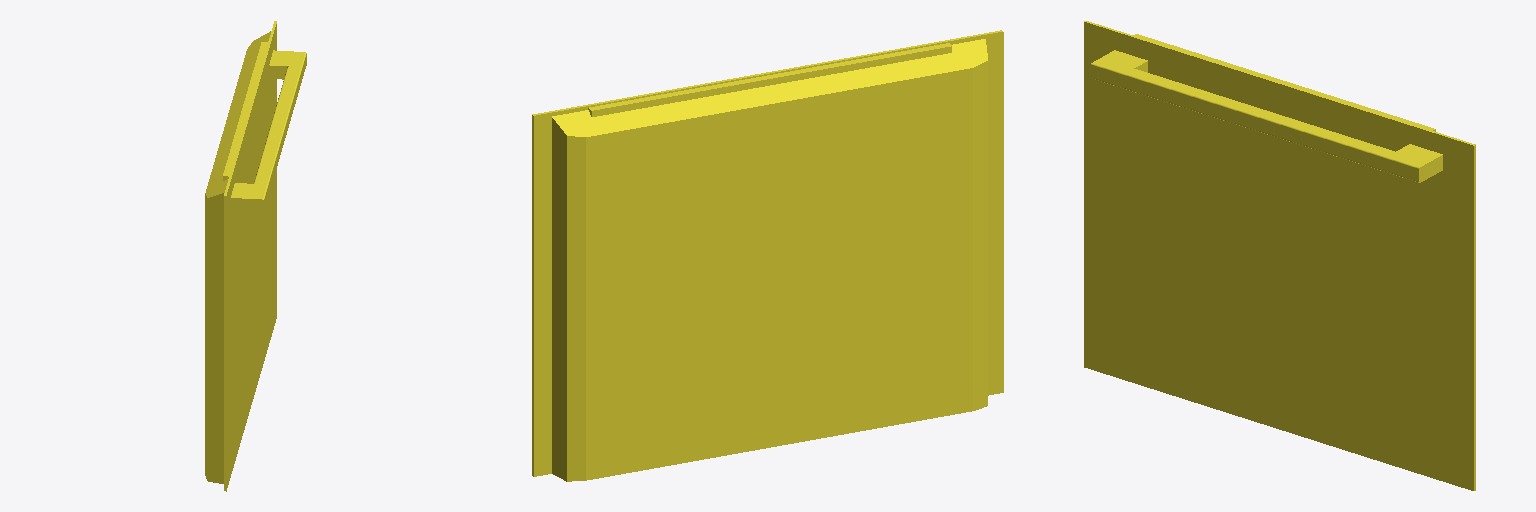
The robot description file, URDF, robot "zanussi_oven":
<?xml version='1.0' encoding='ASCII'?>
<robot name="zanussi_oven">
  <link name="world"/>
  <link name="base"/>
  <link name="handle_link_2"/>
  <link name="handle_link">
    <inertial>
      <origin xyz="0.0 0.0 0.0" rpy="0.0 -0.0 0.0"/>
      <mass value="3.0"/>
      <inertia ixx="0.4333886585" ixy="0.0" ixz="0.0" iyy="0.39146708384" iyz="0.0" izz="0.042168942339999994"/>
    </inertial>
    <visual>
      <geometry>
        <mesh filename="consolidated_collision_meshes/door_mesh.obj" scale="1 1 1"/>
      </geometry>
      <origin xyz="0 0 0" rpy="0.0 0.0 0.0"/>
    </visual>
    <collision>
      <geometry>
        <mesh filename="consolidated_collision_meshes/door_mesh.obj" scale="1 1 1"/>
      </geometry>
      <origin xyz="0.0 0.0 0.0" rpy="0.0 0.0 0.0"/>
    </collision>
  </link>
  <link name="link_3">
    <!-- For the affordance_node, do not visualize the base in simulation
    <visual>
      <geometry>
        <mesh filename="consolidated_collision_meshes/base_mesh_v.obj" scale="1 1 1"/>
      </geometry>
      <origin xyz="0 0 0" rpy="0.0 0.0 0.0"/>
    </visual>
    -->
    <!-- onshape exports a collection of meshes - before using them in raisim you need to join them with Blender -->
    <collision>
      <geometry>
        <mesh filename="consolidated_collision_meshes/base_mesh.obj" scale="1 1 1"/>
      </geometry>
      <origin xyz="0.0 0.0 0.0" rpy="0.0 0.0 0.0"/>
    </collision>
  </link>
  <joint name="fixed" type="fixed">
    <parent link="world"/>
    <child link="base"/>
    <!--<origin xyz="-1.156 1.46 1.01" rpy="0.0 0.0 1.57"/>-->
    <origin xyz="-0.76 1.15 1.0" rpy="0.0 0.0 2.496"/>
    <axis xyz="1.0 0.0 0.0"/>
  </joint>
  <joint name="articulation_joint" type="revolute">
    <parent link="link_3"/>
    <child link="handle_link"/>
    <origin xyz="-0.594 -0.589 -0.015" rpy="0.0 0.0 0.0"/>
    <axis xyz="1.0 0.0 0.0"/>
    <limit effort="1000.0" velocity="1.0" lower="0.0" upper="1.5707963267948966"/>
    <dynamics damping="20.0" friction="40.0"/>
  </joint>
  <joint name="handle_joint" type="fixed">
    <parent link="handle_link"/>
    <child link="handle_link_2"/>
    <origin xyz="0 0 0" rpy="0.0 0.0 0.0"/>
  </joint>
  <joint name="joint_3" type="fixed">
    <parent link="base"/>
    <child link="link_3"/>
    <origin xyz="0.0 0.0 0.0" rpy="1.570796326794897 -0.0 -1.570796326794897"/>
    <axis xyz="1.0 0.0 0.0"/>
  </joint>
</robot>

--- Render facts (derived) ---
Views: 3 orthographic renders of the robot side by side, from view 1: azimuth 30°, elevation 25°; view 2: azimuth 150°, elevation 25°; view 3: azimuth 270°, elevation 25°.
Model zanussi_oven with 5 links and 4 joints (1 revolute, 3 fixed), rooted at world, posed all joints at 0.
Links seen in each view (by area): view 1: handle_link; view 2: handle_link; view 3: handle_link.
Boxes of the visible links, x1=… form: handle_link: x1=205, y1=21, x2=306, y2=491; handle_link: x1=532, y1=30, x2=1003, y2=481; handle_link: x1=1084, y1=21, x2=1475, y2=490.
Bounding box of the posed robot: 0.3739 × 0.4769 × 0.464 m (x, y, z).
Meshes: 1 distinct files referenced, 1 mesh visuals loaded (1 OBJ).